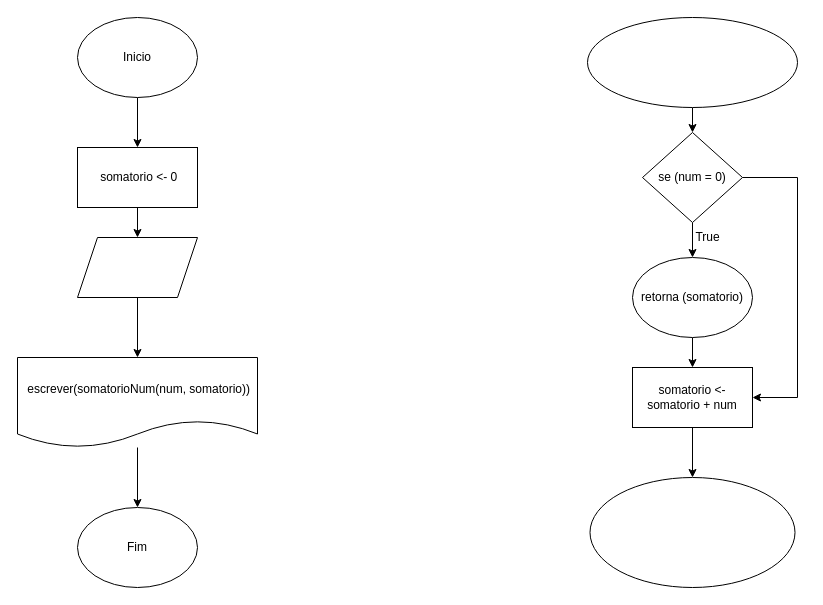
The diagram is 823 pixels wide and 605 high, and some of its shapes have lost their labels. The shapes that lost their labels are listed below. From the top down, each one's centre as x and y in pixels, then its label:
At [692,62]: "somatorioNum (num: inteiro, somatorio: inteiro)".
At [137,267]: "ler(num)".
At [692,532]: "retorna somatorioNum(num-1, somatorio);".
